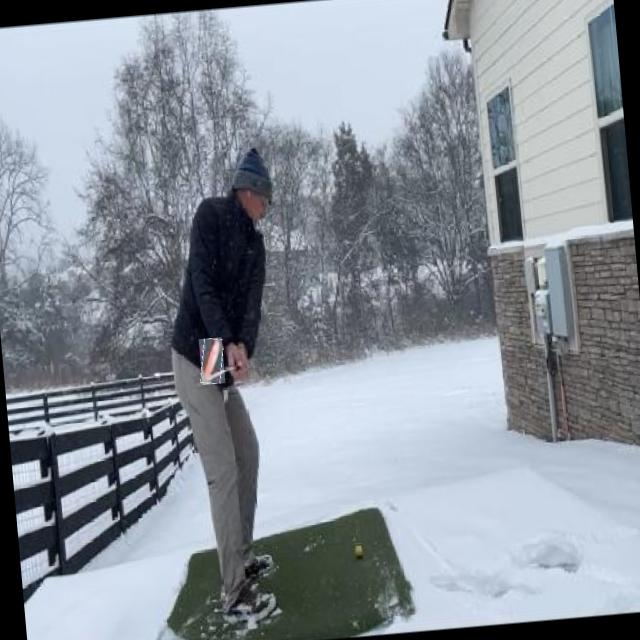club head: (198, 336, 225, 384)
